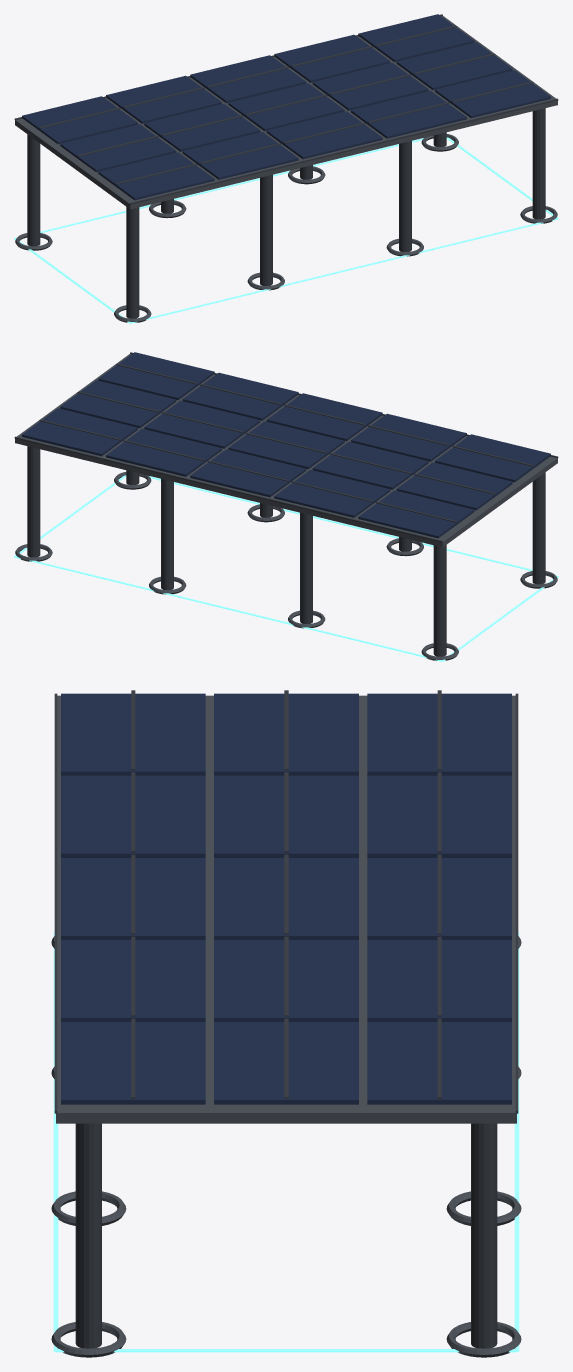
The model's file is photovoltaic_canopy.glb.
The picture shows the model from 3 angles, top to bottom: view 1: azimuth 30°, elevation 25°; view 2: azimuth 150°, elevation 25°; view 3: azimuth 270°, elevation 25°; orthographic projection. The views are drawn at different scales.
Visible parts, largest first — view 1: part_beam, part_panel_0_0, part_panel_0_1, part_panel_0_4, part_panel_0_2, part_panel_0_3, part_panel_2_2, part_panel_2_4, part_panel_1_0, part_panel_1_1, part_panel_1_4, part_panel_1_2 (+12 smaller); view 2: part_beam, part_panel_2_0, part_panel_2_1, part_panel_2_4, part_panel_2_2, part_panel_2_3, part_panel_0_2, part_panel_0_4, part_panel_1_0, part_panel_1_1, part_panel_1_4, part_panel_0_1 (+12 smaller); view 3: part_beam, part_panel_0_4, part_panel_1_4, part_panel_2_4, part_panel_0_0, part_panel_0_1, part_panel_2_0, part_panel_2_1, part_panel_1_0, part_panel_1_1, part_panel_0_2, part_panel_0_3 (+15 smaller).
Part boxes in pixels (x1,y1,x2,y2): part_beam: (15,16,557,209); part_panel_0_0: (98,152,214,200); part_panel_0_1: (182,131,298,179); part_panel_0_4: (435,70,550,118); part_panel_0_2: (266,111,382,159); part_panel_0_3: (351,90,466,138); part_panel_2_2: (190,55,306,103); part_panel_2_4: (358,14,474,62); part_panel_1_0: (60,124,176,172); part_panel_1_1: (144,104,260,151); part_panel_1_4: (396,42,512,90); part_panel_1_2: (228,83,344,131); part_beam: (15,354,557,547); part_panel_2_0: (358,490,474,538); part_panel_2_1: (274,469,390,517); part_panel_2_4: (22,408,137,456); part_panel_2_2: (190,449,306,497); part_panel_2_3: (106,428,221,476); part_panel_0_2: (266,393,382,441); part_panel_0_4: (98,352,214,400); part_panel_1_0: (396,462,512,510); part_panel_1_1: (312,442,428,489); part_panel_1_4: (60,380,176,428); part_panel_0_1: (351,413,466,461); part_beam: (56,695,516,1123); part_panel_0_4: (61,1022,205,1104); part_panel_1_4: (214,1022,358,1104); part_panel_2_4: (367,1022,511,1104); part_panel_0_0: (61,693,205,775); part_panel_0_1: (61,775,205,857); part_panel_2_0: (367,693,511,775); part_panel_2_1: (367,775,511,857); part_panel_1_0: (214,693,358,775); part_panel_1_1: (214,775,358,857); part_panel_0_2: (61,858,205,939); part_panel_0_3: (61,940,205,1021).
Bounding box in the file's own units: 12.31 × 3.37 × 5.71.
